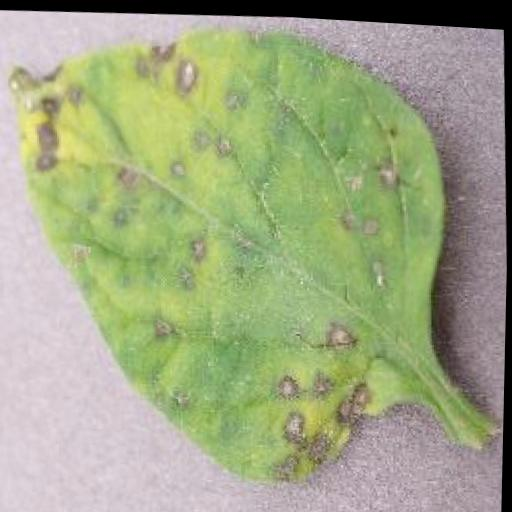Septoria: (0, 5, 458, 497)
